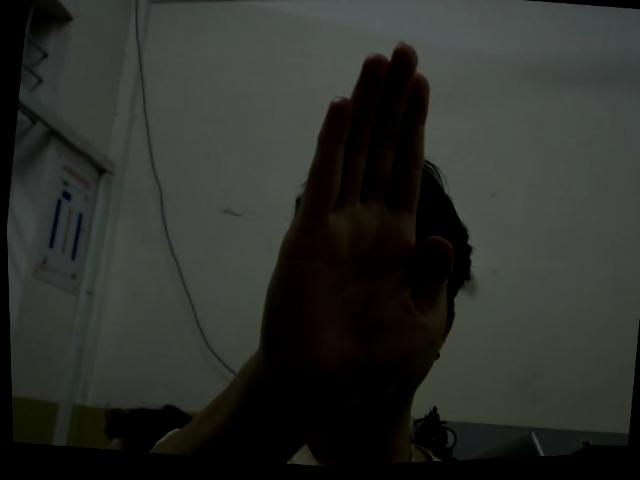B: (241, 28, 482, 423)
